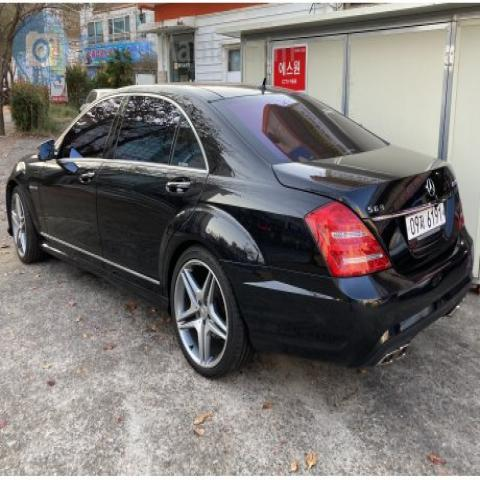LP: (396, 192, 455, 251)
